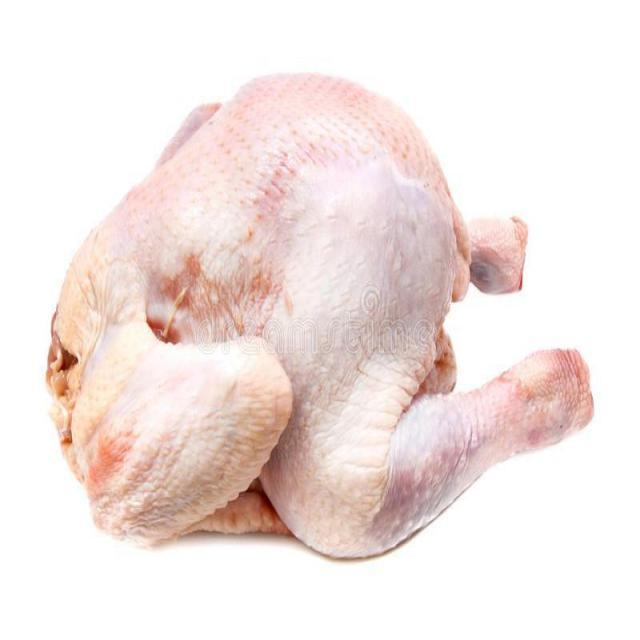Chicken: (32, 59, 606, 568)
